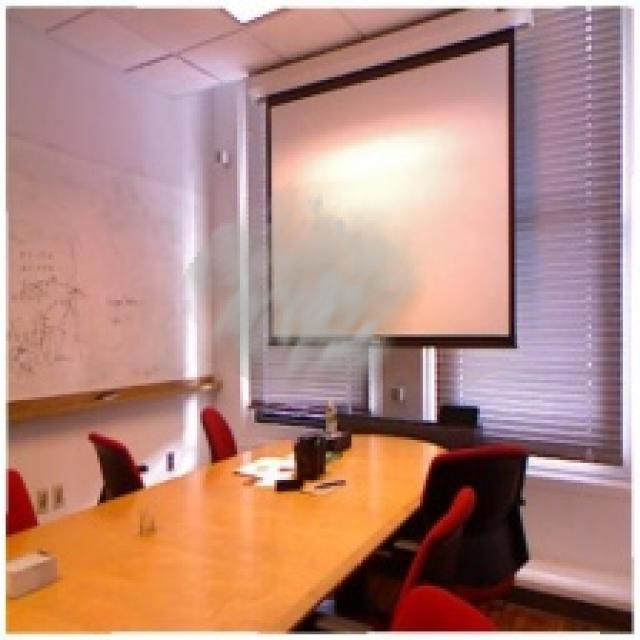smoke: (172, 177, 434, 426)
